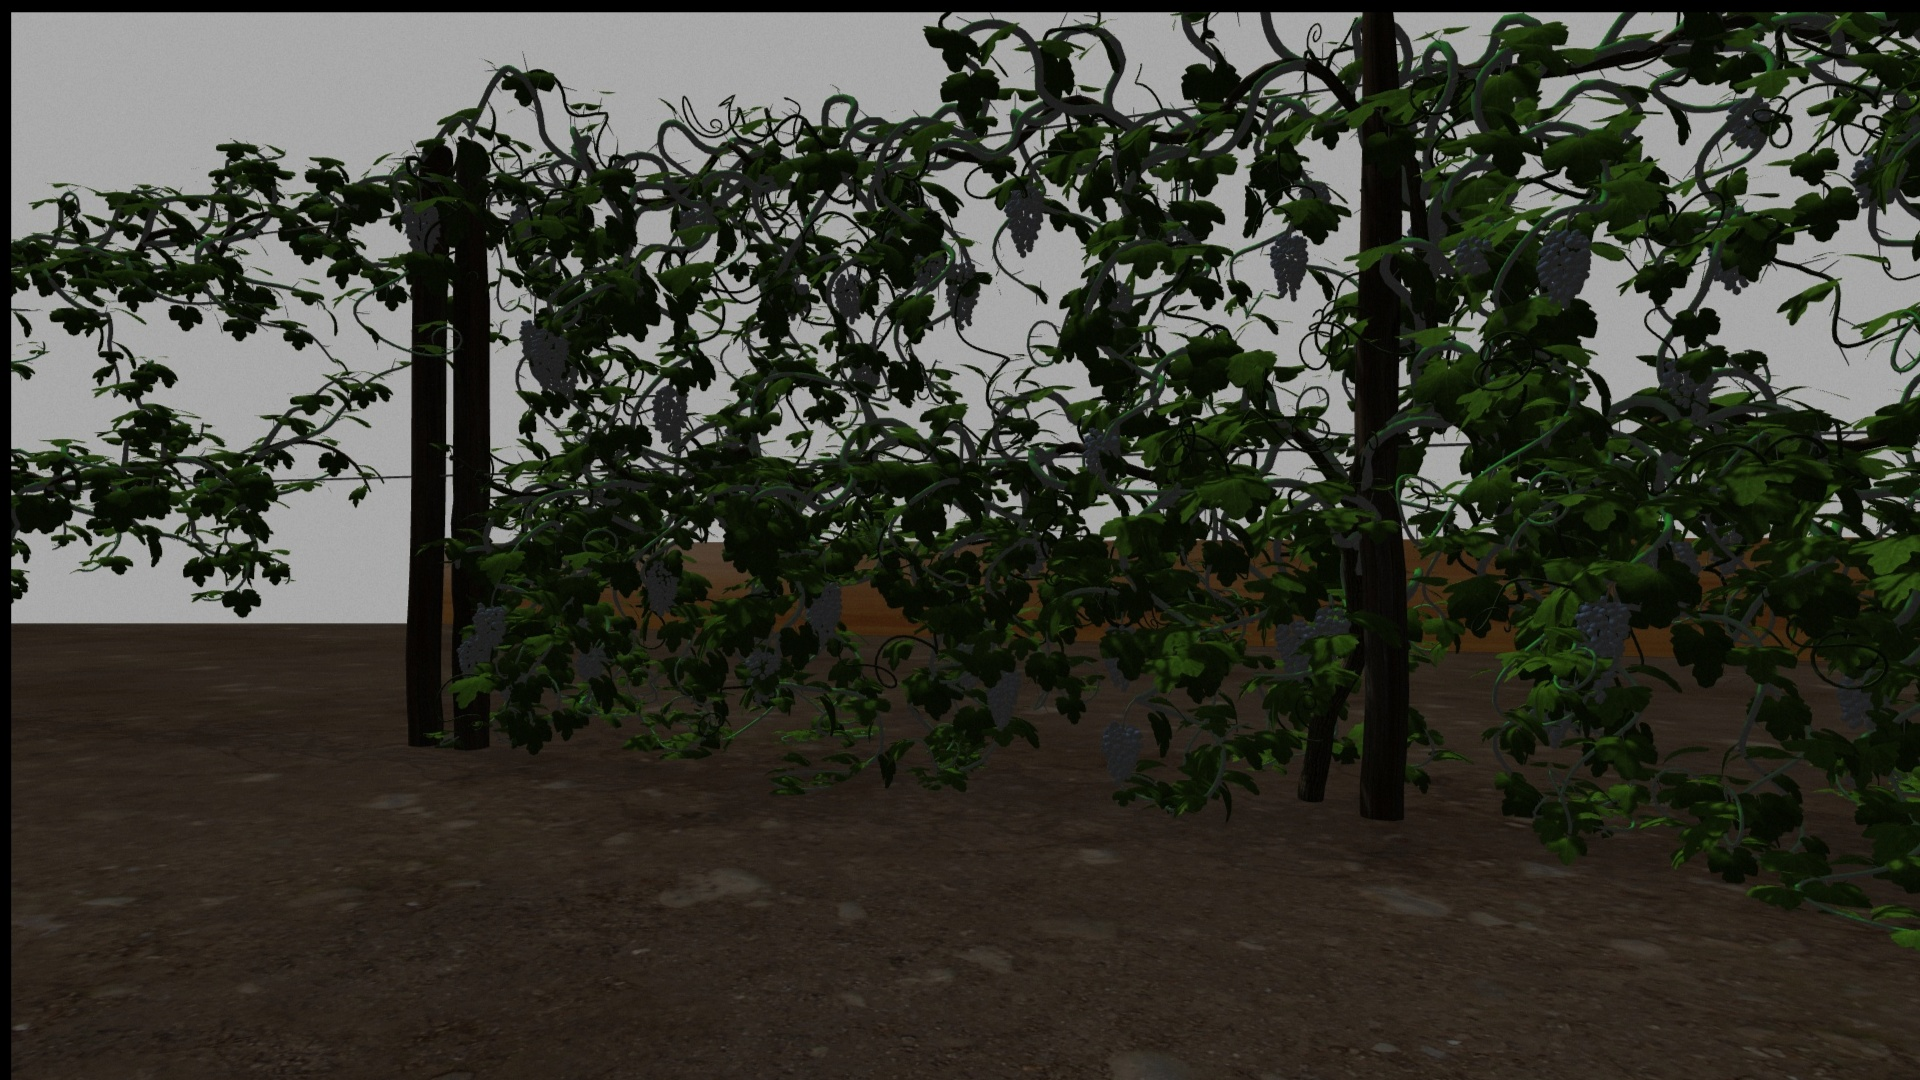grape: (1575, 595, 1633, 705), (1536, 222, 1593, 306), (518, 318, 568, 390), (1663, 359, 1720, 422), (1004, 181, 1044, 258), (1838, 675, 1890, 729), (804, 578, 845, 645), (944, 260, 981, 334), (1081, 425, 1124, 487), (1270, 235, 1309, 301), (984, 670, 1025, 731), (400, 198, 442, 256), (1100, 721, 1139, 781), (1274, 618, 1313, 676), (651, 384, 688, 443), (644, 559, 679, 618), (1727, 102, 1771, 148), (833, 273, 868, 323), (472, 601, 506, 650), (1455, 235, 1493, 274), (744, 646, 781, 680), (1313, 607, 1352, 640), (456, 641, 491, 676), (575, 644, 608, 680)
